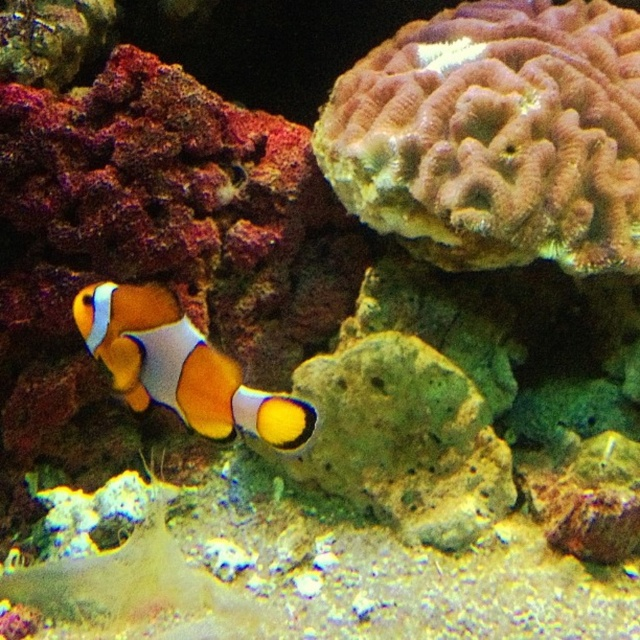Fish: (72, 280, 318, 453)
